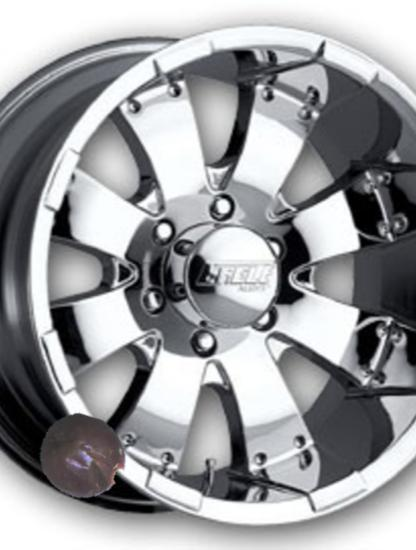Passion: (38, 412, 128, 502)
